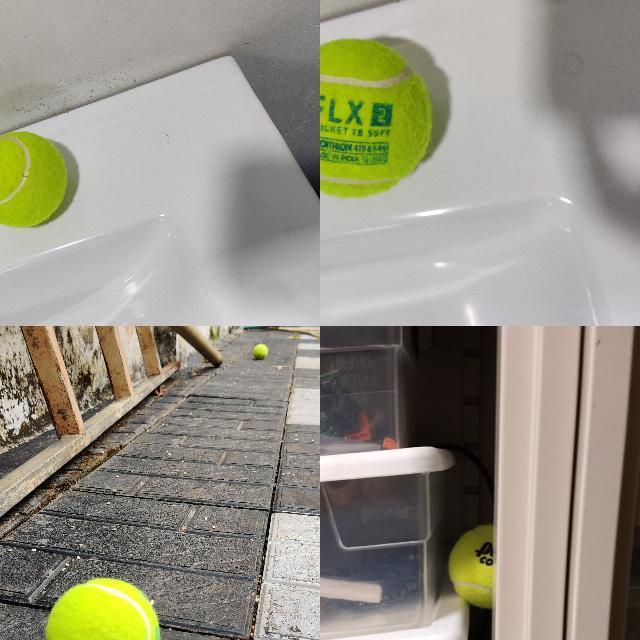tennis-ball: (320, 39, 433, 200), (42, 577, 160, 639), (0, 130, 69, 228), (448, 524, 491, 610), (252, 343, 268, 359)
